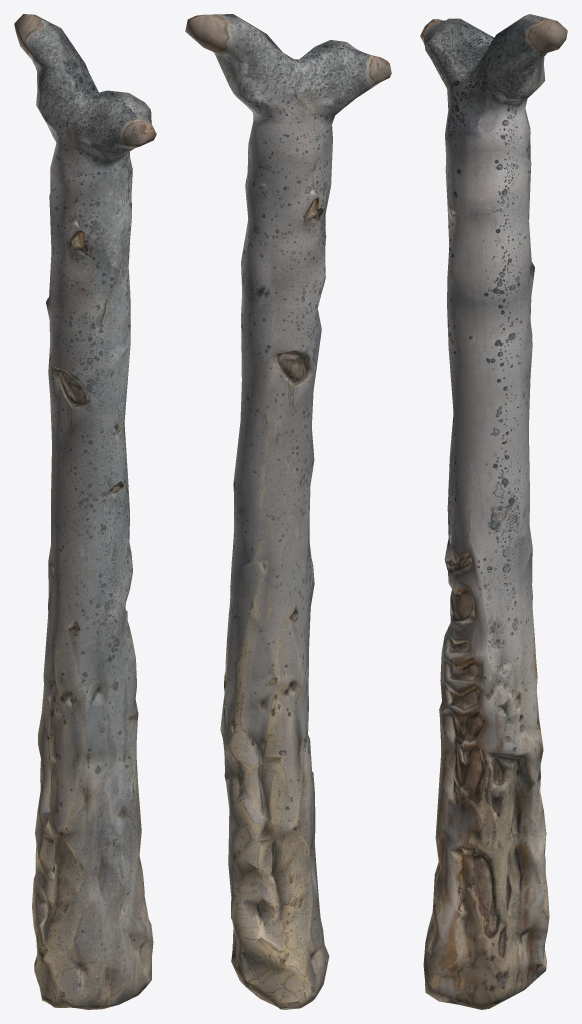
The model's file is snag.glb.
3 views of the same model, side by side, from view 1: azimuth 90°, elevation 25°; view 2: azimuth 150°, elevation 25°; view 3: azimuth 270°, elevation 25° (orthographic). The views are drawn at different scales.
Visible parts, largest first — view 1: LOD0; view 2: LOD0; view 3: LOD0.
Part boxes in pixels (<box>): LOD0: <box>14,14,156,1009</box>; LOD0: <box>185,14,391,1009</box>; LOD0: <box>420,14,567,1009</box>.
Size of the model in its own units: 0.3045 by 1.99 by 0.2675.
Materials: 1 (1 with a texture image).
